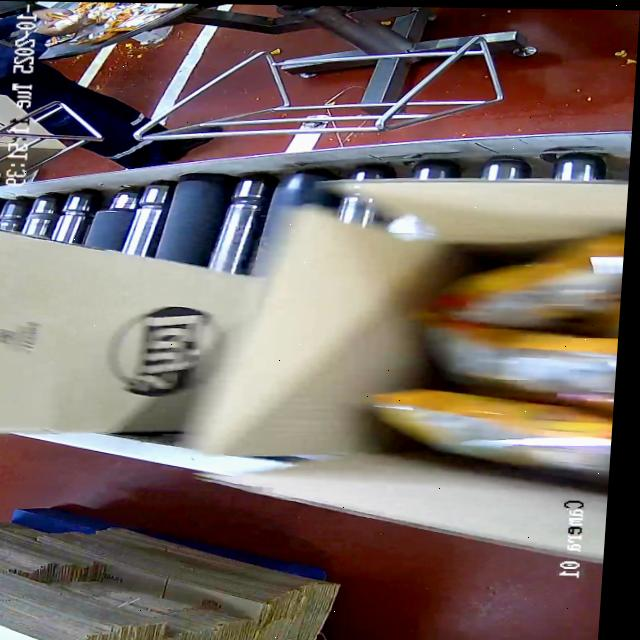FRENCH_CHEESE: (402, 231, 625, 471)
